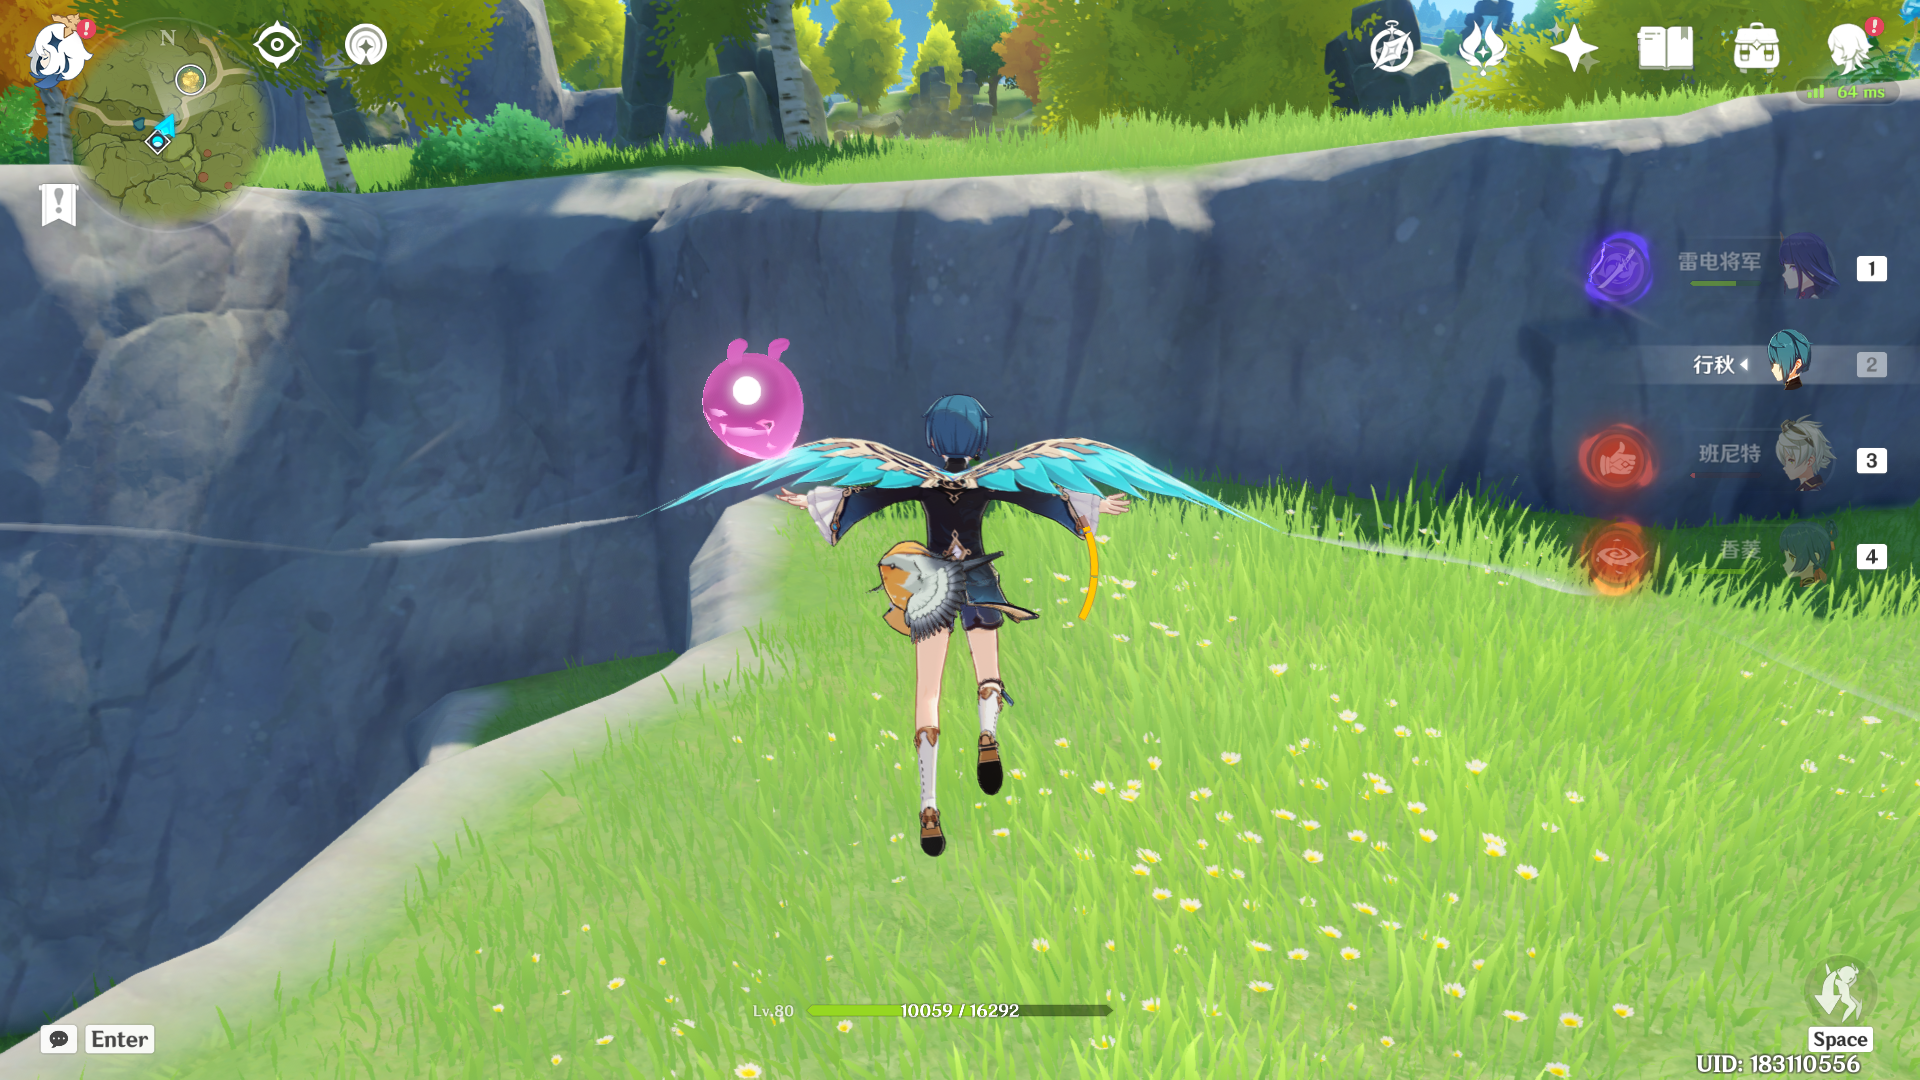character: (779, 363, 1133, 852)
